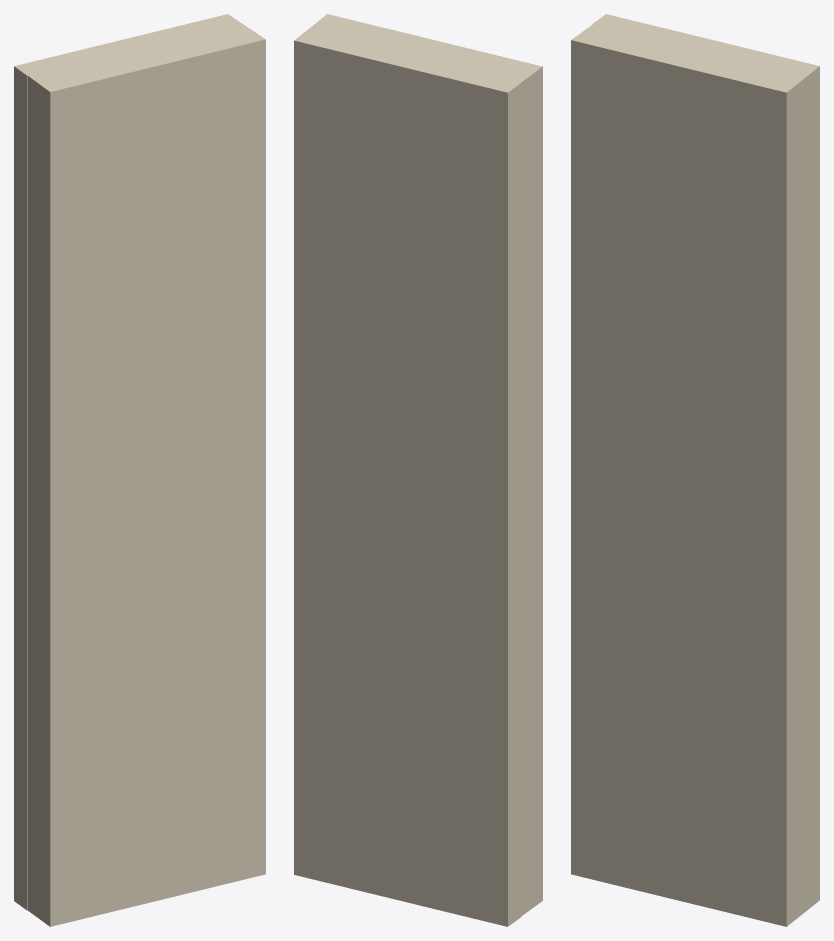
3 renders of one model, left to right at view 1: azimuth 30°, elevation 25°; view 2: azimuth 150°, elevation 25°; view 3: azimuth 330°, elevation 25°, orthographic.
Parts seen in each view (by area): view 1: A-GF-WALL-023; view 2: A-GF-WALL-023; view 3: A-GF-WALL-023.
Boxes of the visible parts, left/top/right/bottom form: A-GF-WALL-023: left=14, top=14, right=265, bottom=926; A-GF-WALL-023: left=294, top=14, right=542, bottom=926; A-GF-WALL-023: left=571, top=14, right=819, bottom=926.
Size of the model in its own units: 0.7374 by 2.72 by 0.2101.
